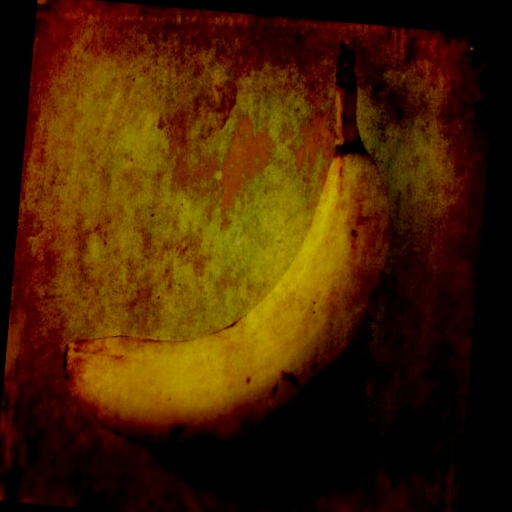fruit: (64, 49, 388, 449)
